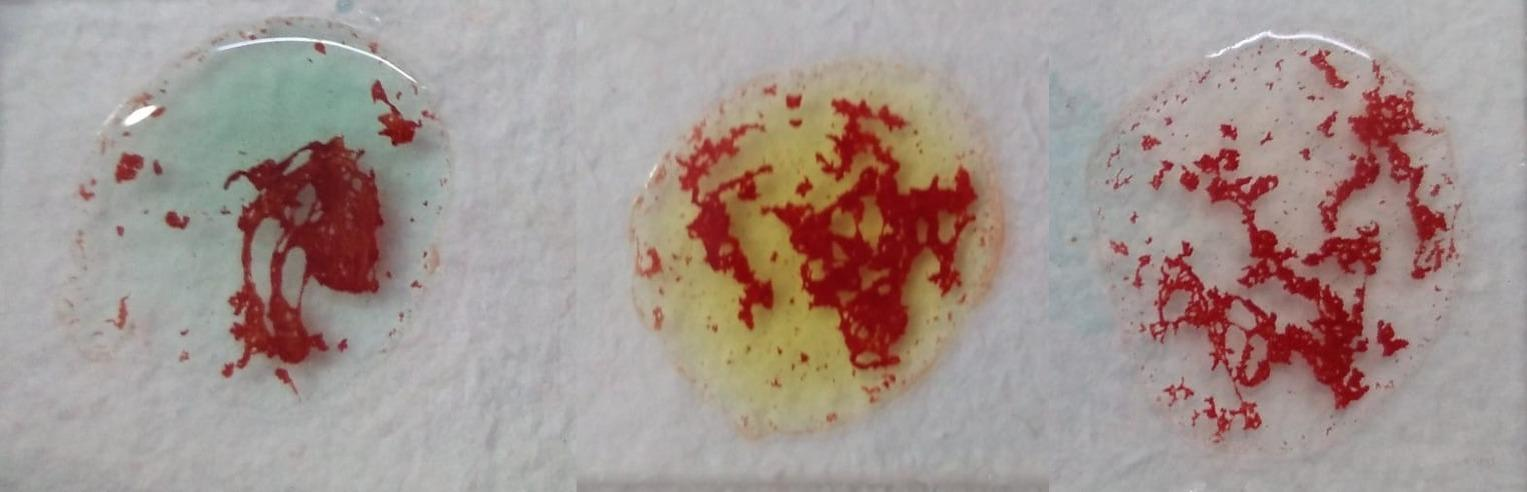A: (53, 12, 463, 429)
B: (633, 59, 1000, 444)
D: (1090, 30, 1457, 454)
